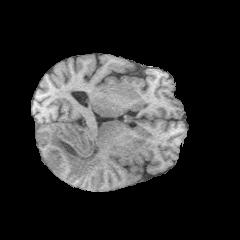glioma: (48, 128, 101, 179)
